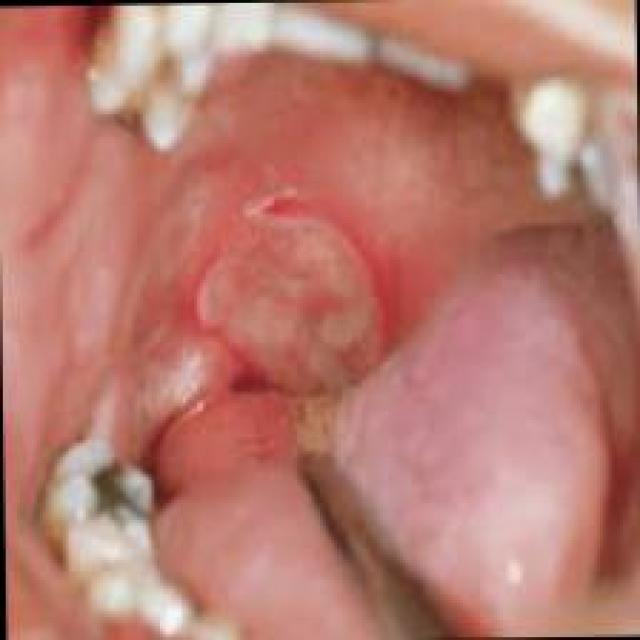processing_area: (4, 43, 604, 504)
ulcer-detection: (172, 175, 401, 399)
